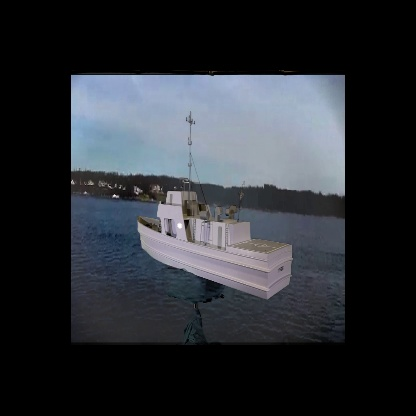YP689: (136, 111, 293, 301)
